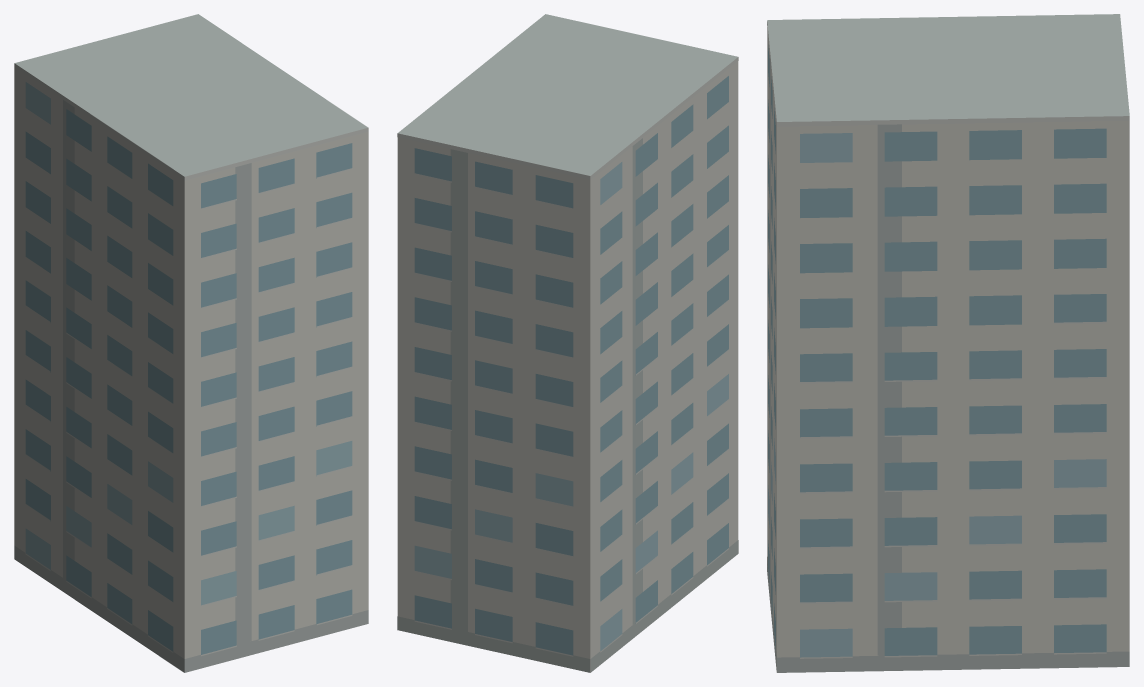
File: residential-10eefa3f-eec5-47ca-bbd9-44e397a8f1e0.glb
3 views of the same model, side by side, from view 1: azimuth 30°, elevation 25°; view 2: azimuth 150°, elevation 25°; view 3: azimuth 270°, elevation 25° (orthographic). The views are drawn at different scales.
Parts seen in each view (by area): view 1: residential-10eefa3f-eec5-47ca-bbd9-44e397a8f1e0.tmp; view 2: residential-10eefa3f-eec5-47ca-bbd9-44e397a8f1e0.tmp; view 3: residential-10eefa3f-eec5-47ca-bbd9-44e397a8f1e0.tmp.
Part boxes in pixels (left/top/right/bottom): residential-10eefa3f-eec5-47ca-bbd9-44e397a8f1e0.tmp: left=14, top=14, right=368, bottom=672; residential-10eefa3f-eec5-47ca-bbd9-44e397a8f1e0.tmp: left=397, top=14, right=738, bottom=672; residential-10eefa3f-eec5-47ca-bbd9-44e397a8f1e0.tmp: left=767, top=14, right=1129, bottom=672.
Size of the model in its own units: 12.63 by 30 by 17.91.
